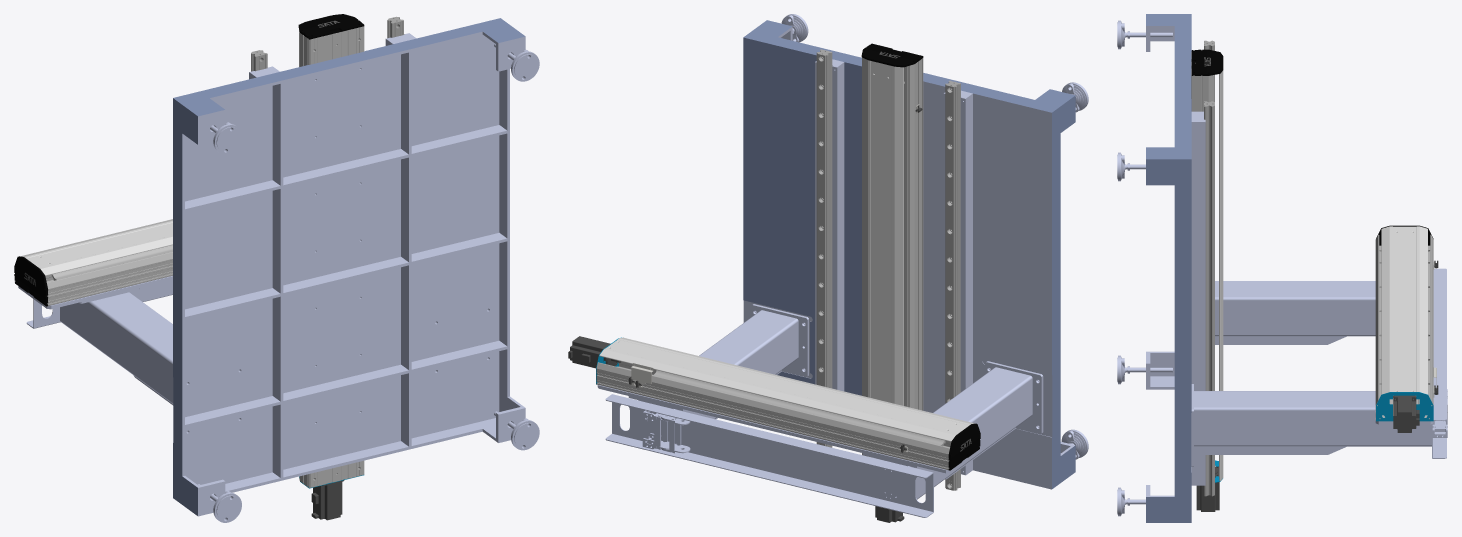
3 renders of one model, left to right at view 1: azimuth 30°, elevation 25°; view 2: azimuth 150°, elevation 25°; view 3: azimuth 270°, elevation 25°, orthographic. The views are drawn at different scales.
Parts seen in each view (by area): view 1: object 37, object 26, small gantry Cnc machine.IGS-1/CK013-0010.IGS-1-solid1, small gantry Cnc machine.IGS-1/CK013-0020.IGS-1-solid1, small gantry Cnc machine.IGS-1/CK012-0010.IGS-1-solid1, object 40, small gantry Cnc machine.IGS-1/ECMA-C20807ES.IGS-1-solid1, small gantry Cnc machine.IGS-1/B-05035B-50.IGS-2-solid1, small gantry Cnc machine.IGS-1/B-05035B-50.IGS-1-solid1, small gantry Cnc machine.IGS-1/T10016150.IGS-4-solid1, small gantry Cnc machine.IGS-1/T10016150.IGS-3-solid1, small gantry Cnc machine.IGS-1/T10016150.IGS-2-solid1 (+2 smaller); view 2: object 37, small gantry Cnc machine.IGS-1/CK012-0020.IGS-1-solid1, object 40, small gantry Cnc machine.IGS-1/CK013-0010.IGS-1-solid1, small gantry Cnc machine.IGS-1/CK013-0020.IGS-1-solid1, small gantry Cnc machine.IGS-1/CK012-0010.IGS-1-solid1, small gantry Cnc machine.IGS-1/HGR45_temp-1.IGS-1-solid1, small gantry Cnc machine.IGS-1/HGR45_temp-1.IGS-2-solid1, object 26, object 38, object 39, object 24 (+8 smaller); view 3: object 37, object 24, object 26, small gantry Cnc machine.IGS-1/CK013-0020.IGS-1-solid1, object 38, small gantry Cnc machine.IGS-1/HGR45_temp-1.IGS-1-solid1, object 40, small gantry Cnc machine.IGS-1/CK013-0010.IGS-1-solid1, small gantry Cnc machine.IGS-1/CK012-0020.IGS-1-solid1, object 32, object 33, small gantry Cnc machine.IGS-1/A-05011A-1A.IGS-2-solid1 (+6 smaller).
Part boxes in pixels (x1=…): object 37: x1=173, y1=18, x2=525, y2=516; object 26: x1=60, y1=292, x2=173, y2=403; small gantry Cnc machine.IGS-1/CK013-0010.IGS-1-solid1: x1=45, y1=245, x2=172, y2=305; small gantry Cnc machine.IGS-1/CK013-0020.IGS-1-solid1: x1=20, y1=219, x2=172, y2=275; small gantry Cnc machine.IGS-1/CK012-0010.IGS-1-solid1: x1=299, y1=26, x2=364, y2=487; object 40: x1=26, y1=279, x2=172, y2=328; small gantry Cnc machine.IGS-1/ECMA-C20807ES.IGS-1-solid1: x1=311, y1=480, x2=344, y2=520; small gantry Cnc machine.IGS-1/B-05035B-50.IGS-2-solid1: x1=14, y1=256, x2=47, y2=306; small gantry Cnc machine.IGS-1/B-05035B-50.IGS-1-solid1: x1=298, y1=14, x2=364, y2=39; small gantry Cnc machine.IGS-1/T10016150.IGS-4-solid1: x1=494, y1=411, x2=539, y2=450; small gantry Cnc machine.IGS-1/T10016150.IGS-3-solid1: x1=494, y1=43, x2=539, y2=81; small gantry Cnc machine.IGS-1/T10016150.IGS-2-solid1: x1=197, y1=484, x2=241, y2=522; object 37: x1=743, y1=20, x2=1075, y2=489; small gantry Cnc machine.IGS-1/CK012-0020.IGS-1-solid1: x1=862, y1=57, x2=903, y2=457; object 40: x1=605, y1=394, x2=933, y2=517; small gantry Cnc machine.IGS-1/CK013-0010.IGS-1-solid1: x1=596, y1=361, x2=951, y2=470; small gantry Cnc machine.IGS-1/CK013-0020.IGS-1-solid1: x1=599, y1=337, x2=974, y2=441; small gantry Cnc machine.IGS-1/CK012-0010.IGS-1-solid1: x1=874, y1=58, x2=923, y2=410; small gantry Cnc machine.IGS-1/HGR45_temp-1.IGS-1-solid1: x1=816, y1=49, x2=832, y2=447; small gantry Cnc machine.IGS-1/HGR45_temp-1.IGS-2-solid1: x1=945, y1=80, x2=960, y2=490; object 26: x1=872, y1=367, x2=1032, y2=499; object 38: x1=815, y1=59, x2=844, y2=391; object 39: x1=943, y1=90, x2=972, y2=475; object 24: x1=638, y1=310, x2=798, y2=418; object 37: x1=1146, y1=14, x2=1191, y2=522; object 24: x1=1194, y1=391, x2=1431, y2=446; object 26: x1=1215, y1=281, x2=1375, y2=336; small gantry Cnc machine.IGS-1/CK013-0020.IGS-1-solid1: x1=1381, y1=226, x2=1427, y2=394; object 38: x1=1191, y1=111, x2=1205, y2=485; small gantry Cnc machine.IGS-1/HGR45_temp-1.IGS-1-solid1: x1=1204, y1=101, x2=1214, y2=496; object 40: x1=1432, y1=268, x2=1446, y2=458; small gantry Cnc machine.IGS-1/CK013-0010.IGS-1-solid1: x1=1375, y1=234, x2=1433, y2=420; small gantry Cnc machine.IGS-1/CK012-0020.IGS-1-solid1: x1=1219, y1=70, x2=1223, y2=481; object 32: x1=1194, y1=446, x2=1346, y2=454; object 33: x1=1215, y1=336, x2=1346, y2=344; small gantry Cnc machine.IGS-1/A-05011A-1A.IGS-2-solid1: x1=1376, y1=392, x2=1433, y2=421.
Bounding box in the file's own units: 1516 × 1716 × 1153.
